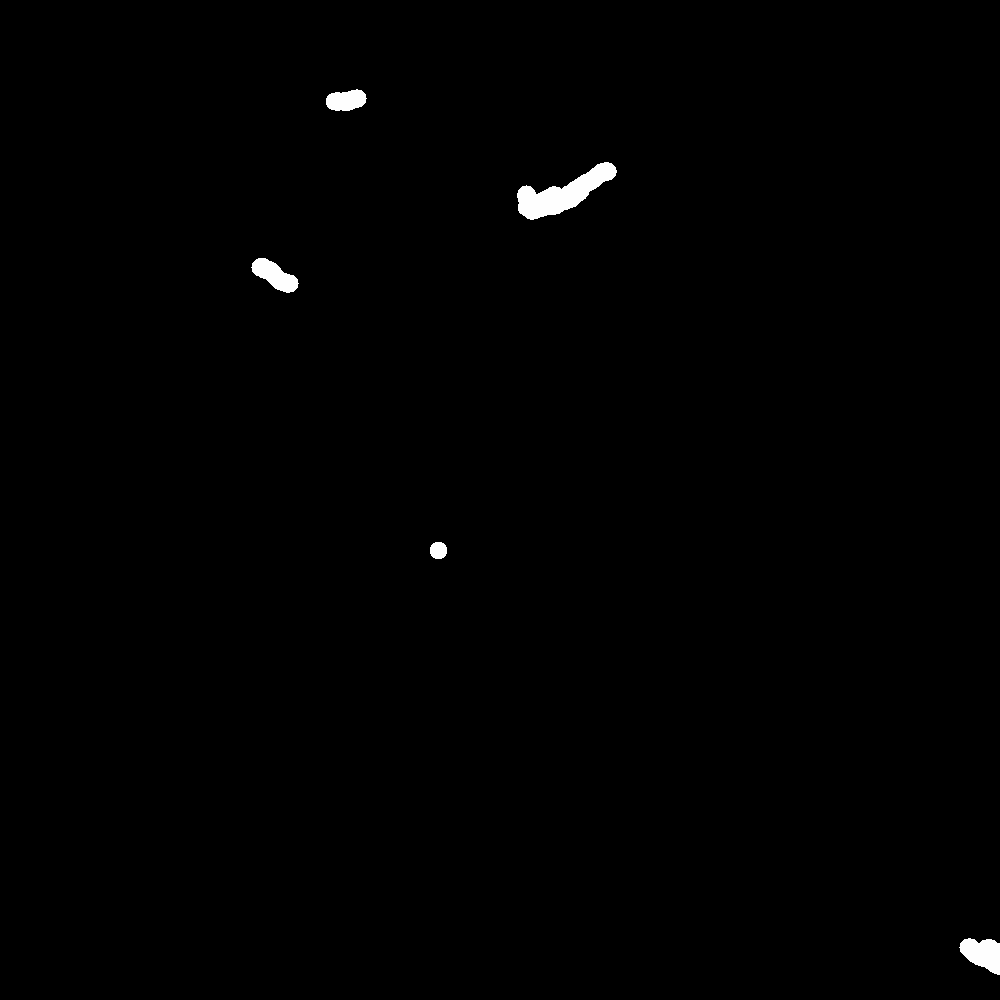illegal: (514, 172, 606, 223), (946, 939, 1000, 993), (265, 260, 305, 291)
